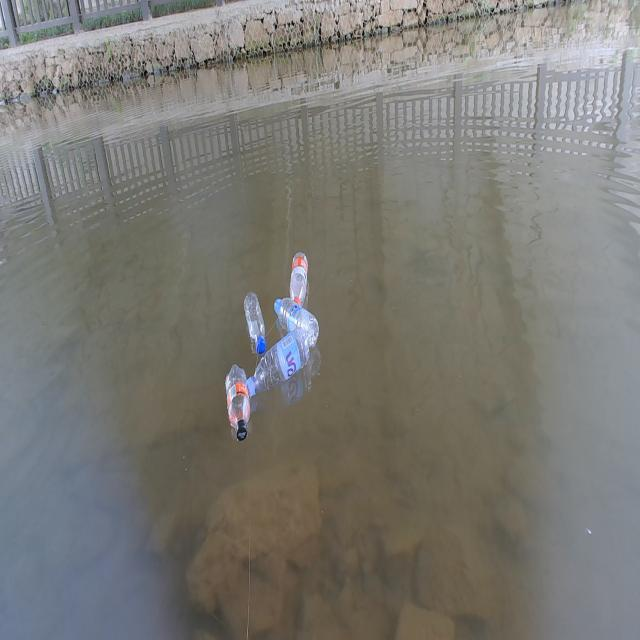garbage: (246, 328, 310, 396), (274, 296, 320, 348), (225, 363, 252, 441), (243, 291, 266, 355), (289, 250, 309, 306)
